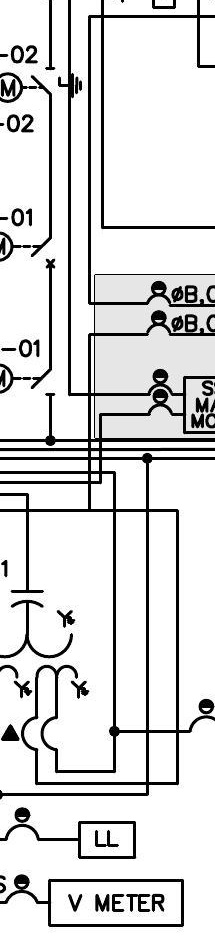115_breaker: (30, 236, 56, 269)
LL: (77, 820, 137, 860)
v_m_digital: (47, 878, 185, 928)
